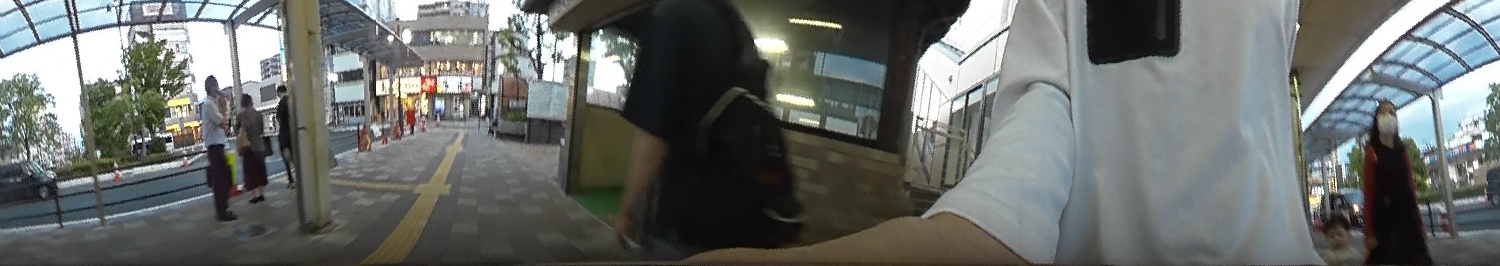person: (613, 0, 803, 266), (1345, 93, 1432, 264), (189, 71, 242, 226), (227, 92, 271, 205), (269, 83, 307, 185)
